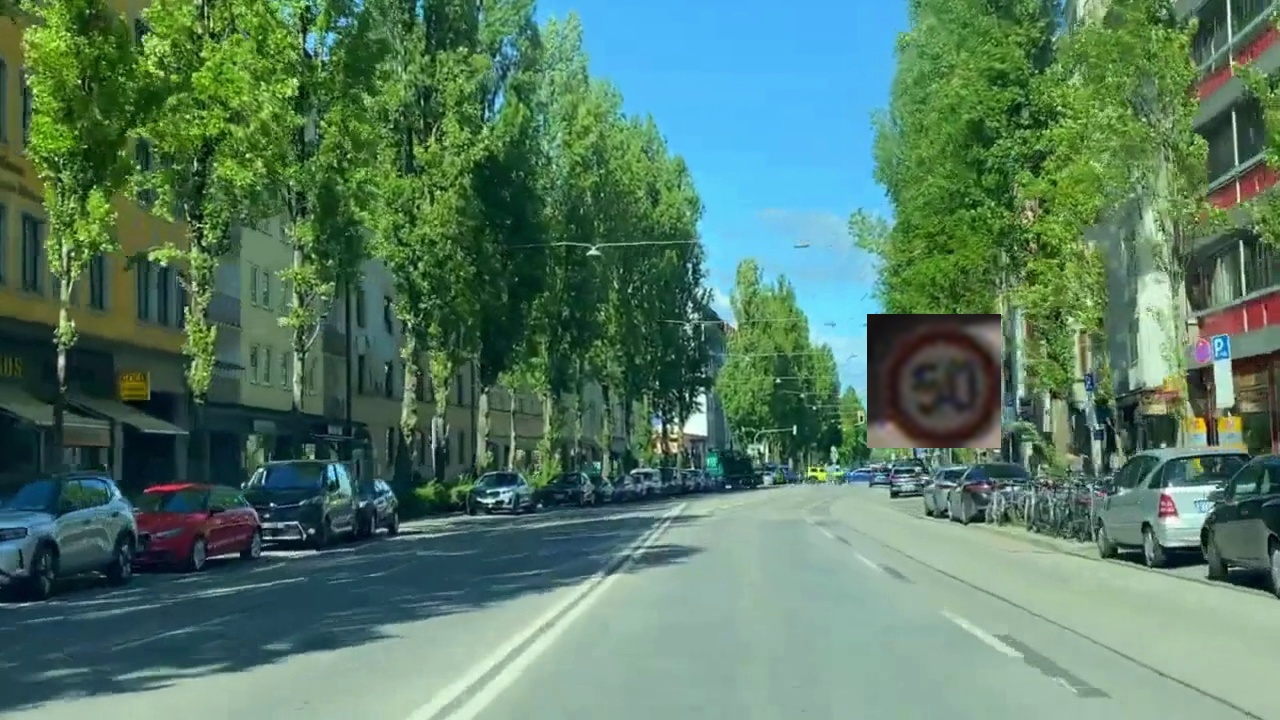Speed 50: (867, 314, 1001, 448)
